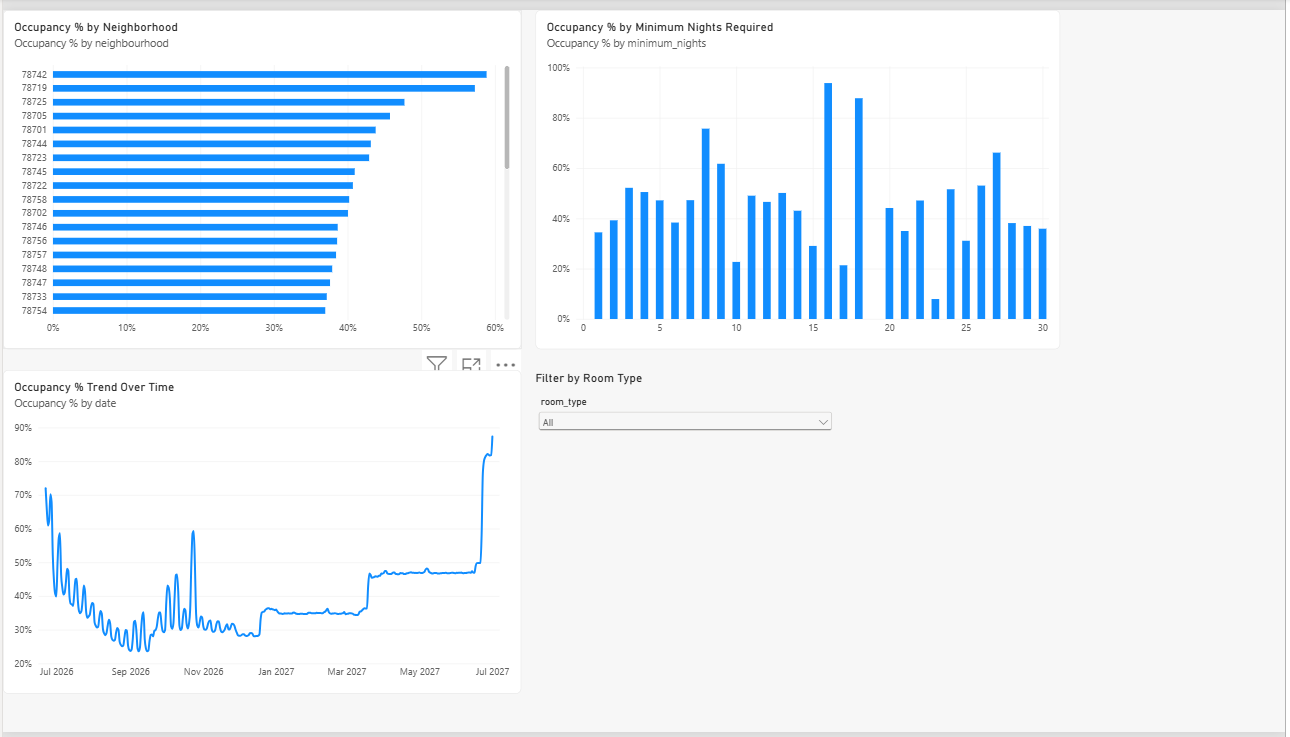

What the dashboard file says about the page in this screenshot:
{"tool":"powerbi","page":{"name":"Occupancy Analysis","canvas":[1920,1080],"ordinal":2},"visuals":[{"type":"clusteredBarChart","title":"Occupancy % by Neighborhood","fields":{"Category":["public listings_clean.neighbourhood"],"Y":["public calendar_clean.Occupancy %"]},"box":[94.5,30.4,776,507.9],"z":0},{"type":"lineChart","title":"Occupancy % Trend Over Time","fields":{"Category":["public calendar_clean.date"],"Y":["public calendar_clean.Occupancy %"]},"box":[94.5,560.6,776,484.6],"z":1000},{"type":"clusteredColumnChart","title":"Occupancy % by Minimum Nights Required","fields":{"Category":["public listings_clean.minimum_nights"],"Y":["public calendar_clean.Occupancy %"]},"box":[961.3,30.4,786,507.9],"z":2000},{"type":"slicer","title":"Filter by Room Type","fields":{"Values":["public listings_clean.room_type"]},"box":[961.3,560.6,436.1,296.8],"z":3001}]}

Visuals, with their boxes in screenshot pixels (x1, y1, x2, y2), scaled from the page's 1920x1080 canvas onto the 1290x737 screenshot:
"Occupancy % by Neighborhood" clusteredBarChart: [left=63, top=21, right=585, bottom=367]
"Occupancy % Trend Over Time" lineChart: [left=63, top=383, right=585, bottom=713]
"Occupancy % by Minimum Nights Required" clusteredColumnChart: [left=646, top=21, right=1174, bottom=367]
"Filter by Room Type" slicer: [left=646, top=383, right=939, bottom=585]
